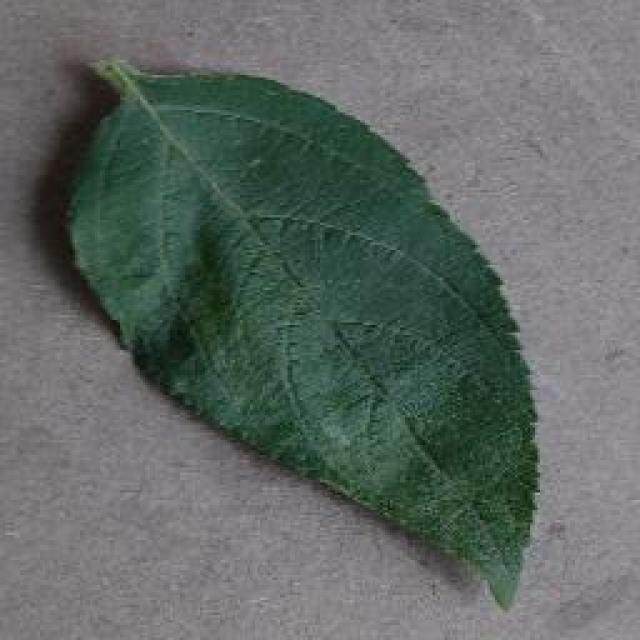apple healthy: (60, 52, 542, 610)
